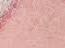plaque psoriasis: (0, 0, 25, 36), (56, 0, 65, 7)
